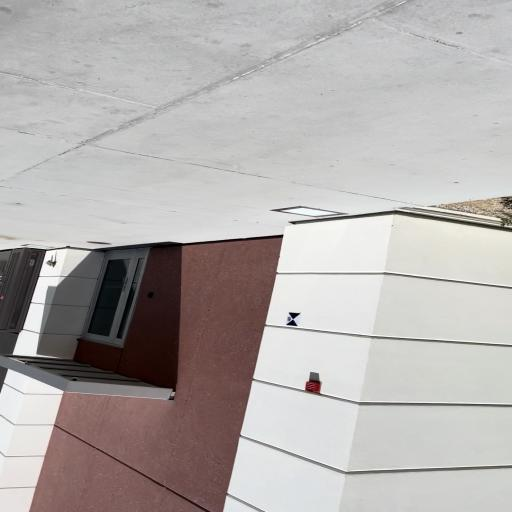target6: (284, 312, 301, 327)
